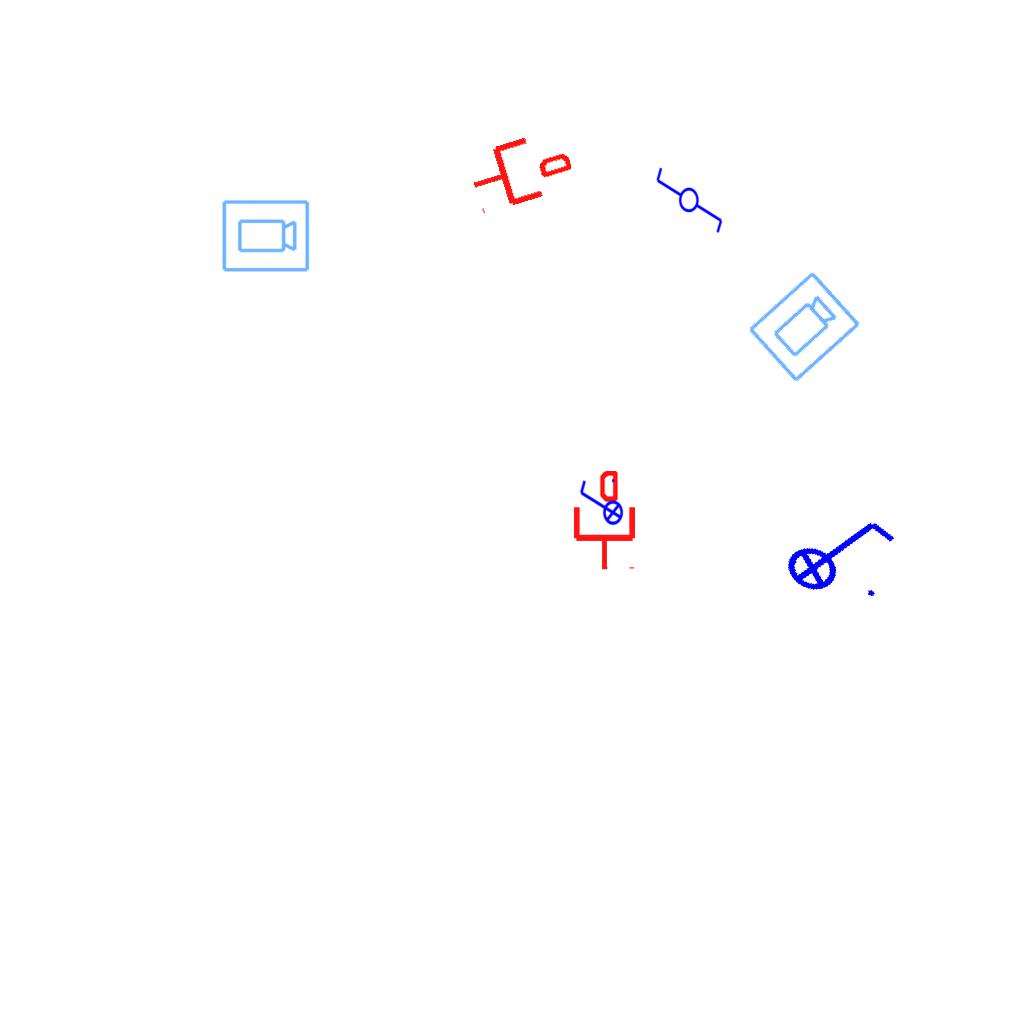Ausschalter_beleuchtet: (768, 485, 908, 617), (576, 476, 624, 532)
Datenanschluss_einfach: (462, 123, 579, 219), (570, 471, 639, 571)
KFO_Kamera_mit_Festobjektiv: (744, 268, 865, 387), (220, 198, 311, 275)
Wechselschalter: (654, 157, 726, 235)
